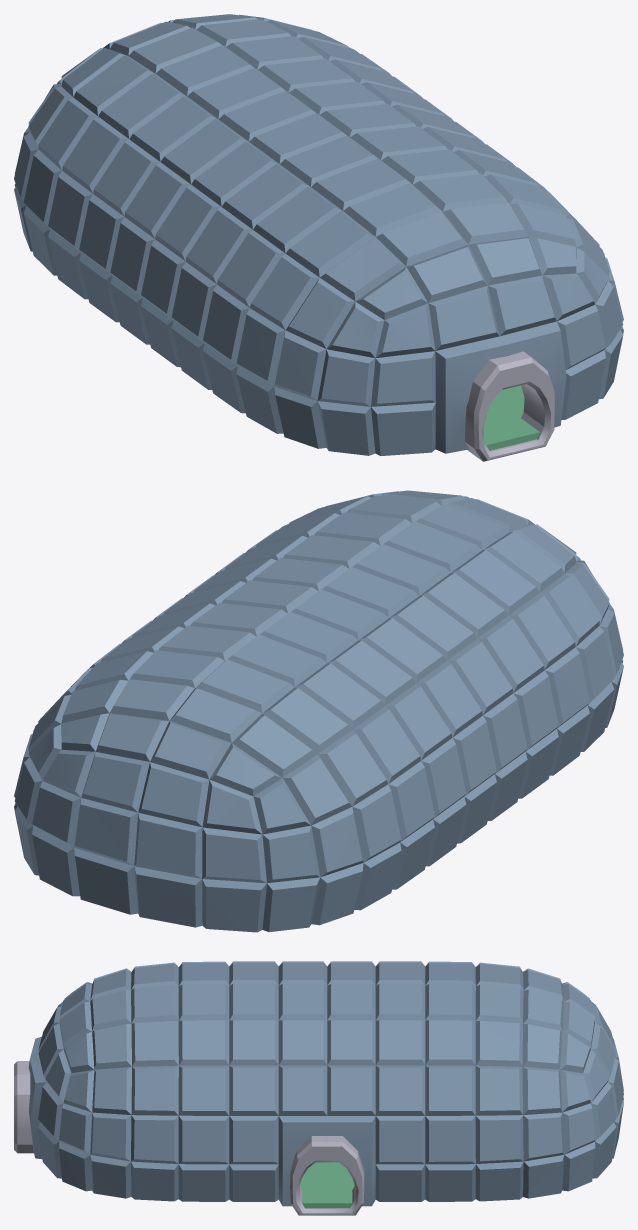
3 views of the same model, one above another, from view 1: azimuth 30°, elevation 25°; view 2: azimuth 150°, elevation 25°; view 3: azimuth 270°, elevation 25° (orthographic). The views are drawn at different scales.
Parts seen in each view (by area): view 1: building_2_single_input.004; view 2: building_2_single_input.004; view 3: building_2_single_input.004.
Part boxes in pixels (left/top/right/bottom): building_2_single_input.004: left=14, top=14, right=623, bottom=461; building_2_single_input.004: left=14, top=490, right=623, bottom=932; building_2_single_input.004: left=14, top=961, right=623, bottom=1215.
Bounding box in the file's own units: 6.69 × 3.41 × 11.84.
1 material, 1 textured.
